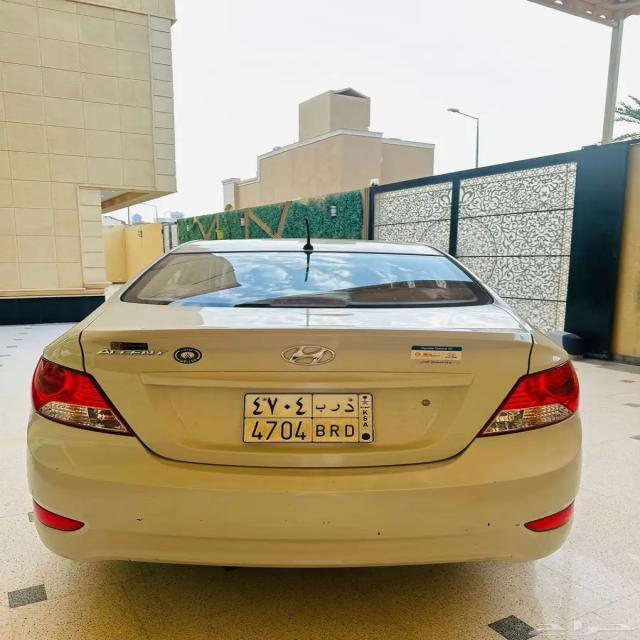license_plate: (244, 418, 361, 443)
